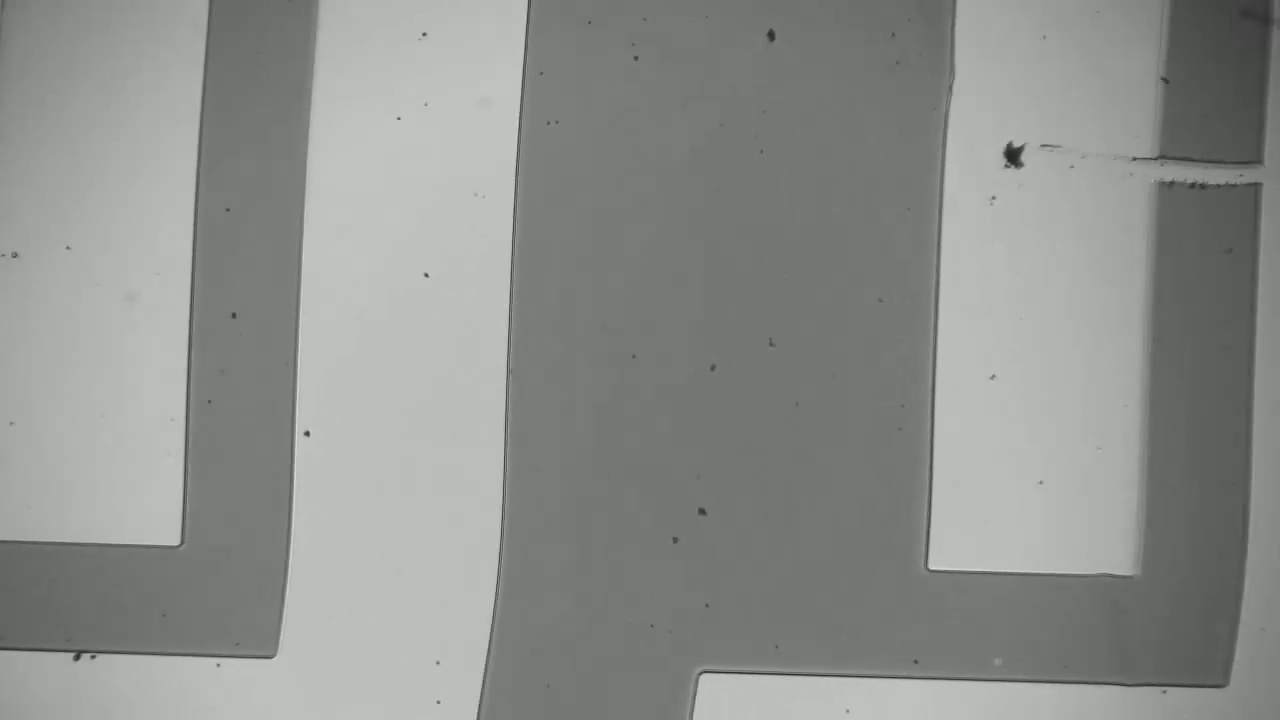Short_circuit: (1126, 145, 1279, 208)
